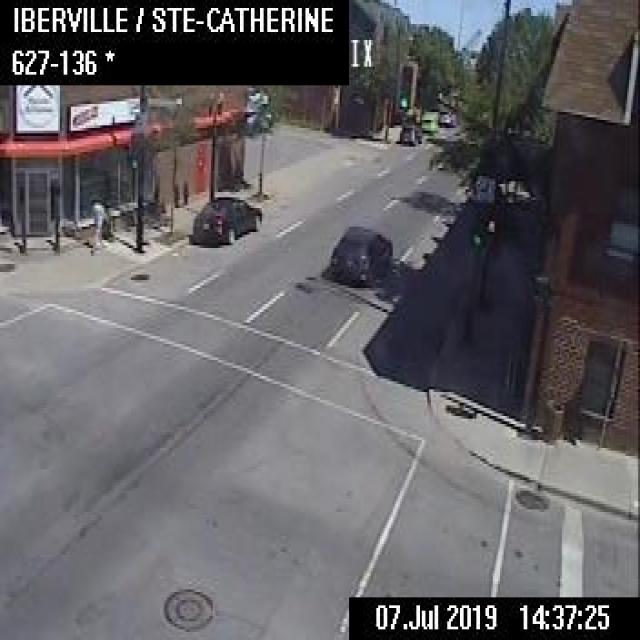pedestrian: (88, 194, 106, 252)
vehicle: (327, 221, 393, 288), (189, 192, 260, 245), (396, 105, 418, 144), (436, 106, 458, 126), (419, 109, 436, 132)
